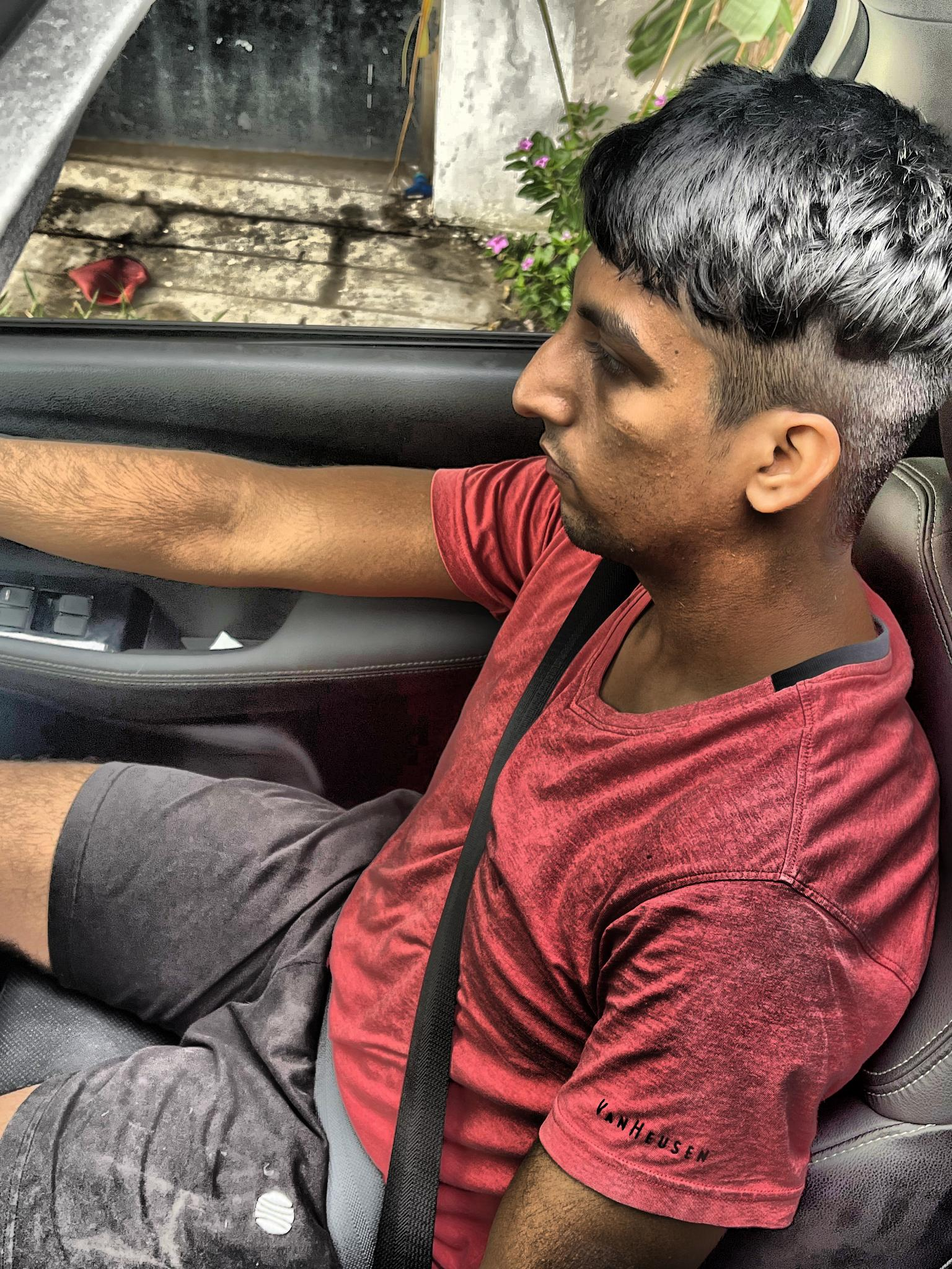seatbelt: (357, 542, 656, 1269)
